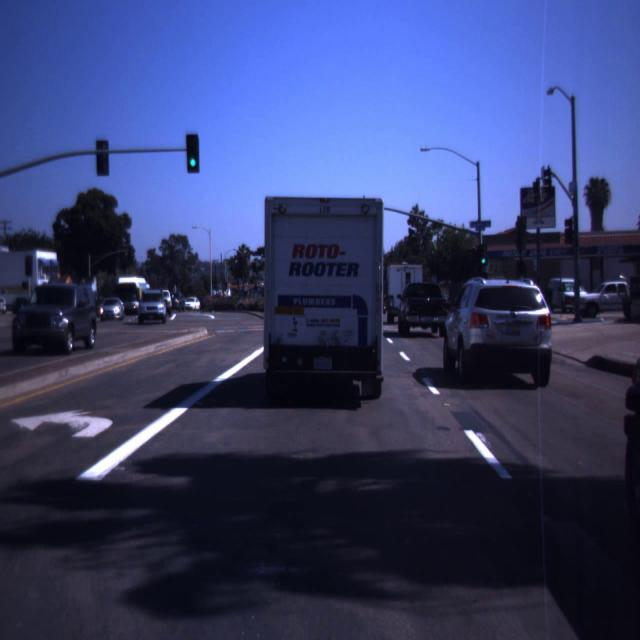arka_lamba: (96, 140, 110, 176)
yesil: (187, 134, 200, 173), (478, 245, 488, 266)
